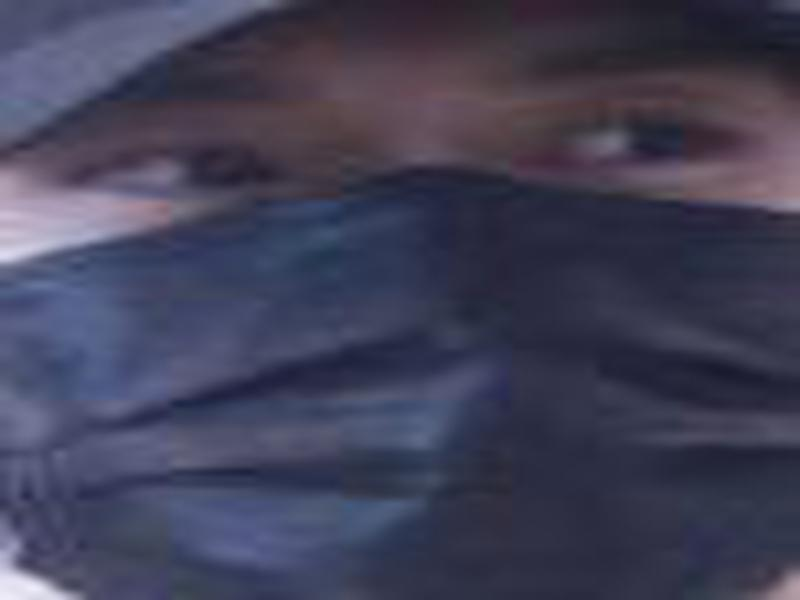with_mask: (1, 18, 798, 600)
